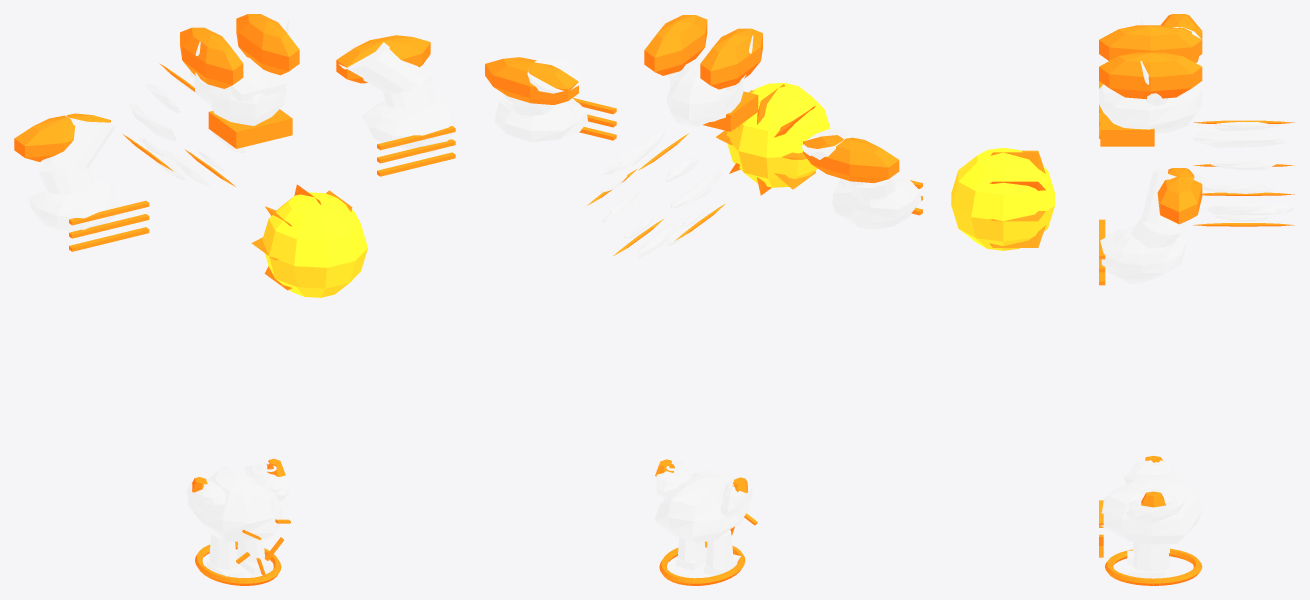
Rendered from krakor-v5-leger.glb.
The picture shows the model from 3 angles, left to right: view 1: azimuth 30°, elevation 25°; view 2: azimuth 150°, elevation 25°; view 3: azimuth 270°, elevation 25°; orthographic projection.
Visible parts, largest first — view 1: boss_coeur.007, boss_corps.004, lueur_boss_tete.004, boss_bras_d.004, boss_bras_g.004, lueur_boss_bras_g, boss_tete.007, lueur_boss_bras_d, boss_halo.007, lueur_boss_corps; view 2: boss_corps.004, boss_coeur.007, lueur_boss_tete.004, boss_bras_g.004, boss_halo.007, boss_bras_d.004, lueur_boss_bras_d, boss_tete.007, lueur_boss_bras_g, lueur_boss_corps, lueur_boss_halo.004; view 3: boss_coeur.007, lueur_boss_tete.004, boss_corps.004, boss_bras_d.004, boss_halo.007, boss_tete.007, lueur_boss_bras_d, lueur_boss_corps, lueur_boss_halo.004, lueur_boss_bras_g.
Part boxes in pixels (<box>): boss_coeur.007: <box>251,184,367,297</box>; boss_corps.004: <box>187,461,289,577</box>; lueur_boss_tete.004: <box>180,14,299,148</box>; boss_bras_d.004: <box>339,39,456,152</box>; boss_bras_g.004: <box>28,113,118,230</box>; lueur_boss_bras_g: <box>14,113,149,251</box>; boss_tete.007: <box>194,20,289,125</box>; lueur_boss_bras_d: <box>336,35,455,176</box>; boss_halo.007: <box>127,70,245,185</box>; lueur_boss_corps: <box>192,458,290,585</box>; boss_corps.004: <box>654,460,753,575</box>; boss_coeur.007: <box>716,83,830,195</box>; lueur_boss_tete.004: <box>644,15,762,131</box>; boss_bras_g.004: <box>802,128,921,229</box>; boss_halo.007: <box>600,129,722,258</box>; boss_bras_d.004: <box>495,58,587,142</box>; lueur_boss_bras_d: <box>485,57,616,140</box>; boss_tete.007: <box>660,14,753,126</box>; lueur_boss_bras_g: <box>803,135,922,215</box>; lueur_boss_corps: <box>655,459,757,585</box>; lueur_boss_halo.004: <box>587,133,725,255</box>; boss_coeur.007: <box>951,148,1054,250</box>; lueur_boss_tete.004: <box>1099,25,1202,146</box>; boss_corps.004: <box>1100,458,1202,578</box>; boss_bras_d.004: <box>1100,169,1202,284</box>; boss_halo.007: <box>1192,118,1294,221</box>; boss_tete.007: <box>1099,18,1202,133</box>; lueur_boss_bras_d: <box>1099,168,1202,285</box>; lueur_boss_corps: <box>1099,455,1202,585</box>; lueur_boss_halo.004: <box>1193,120,1294,226</box>; lueur_boss_bras_g: <box>1099,14,1202,138</box>.
Size of the model in its own units: 9 by 11.3 by 6.65.
